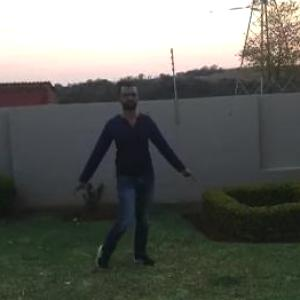land: (56, 71, 190, 295)
